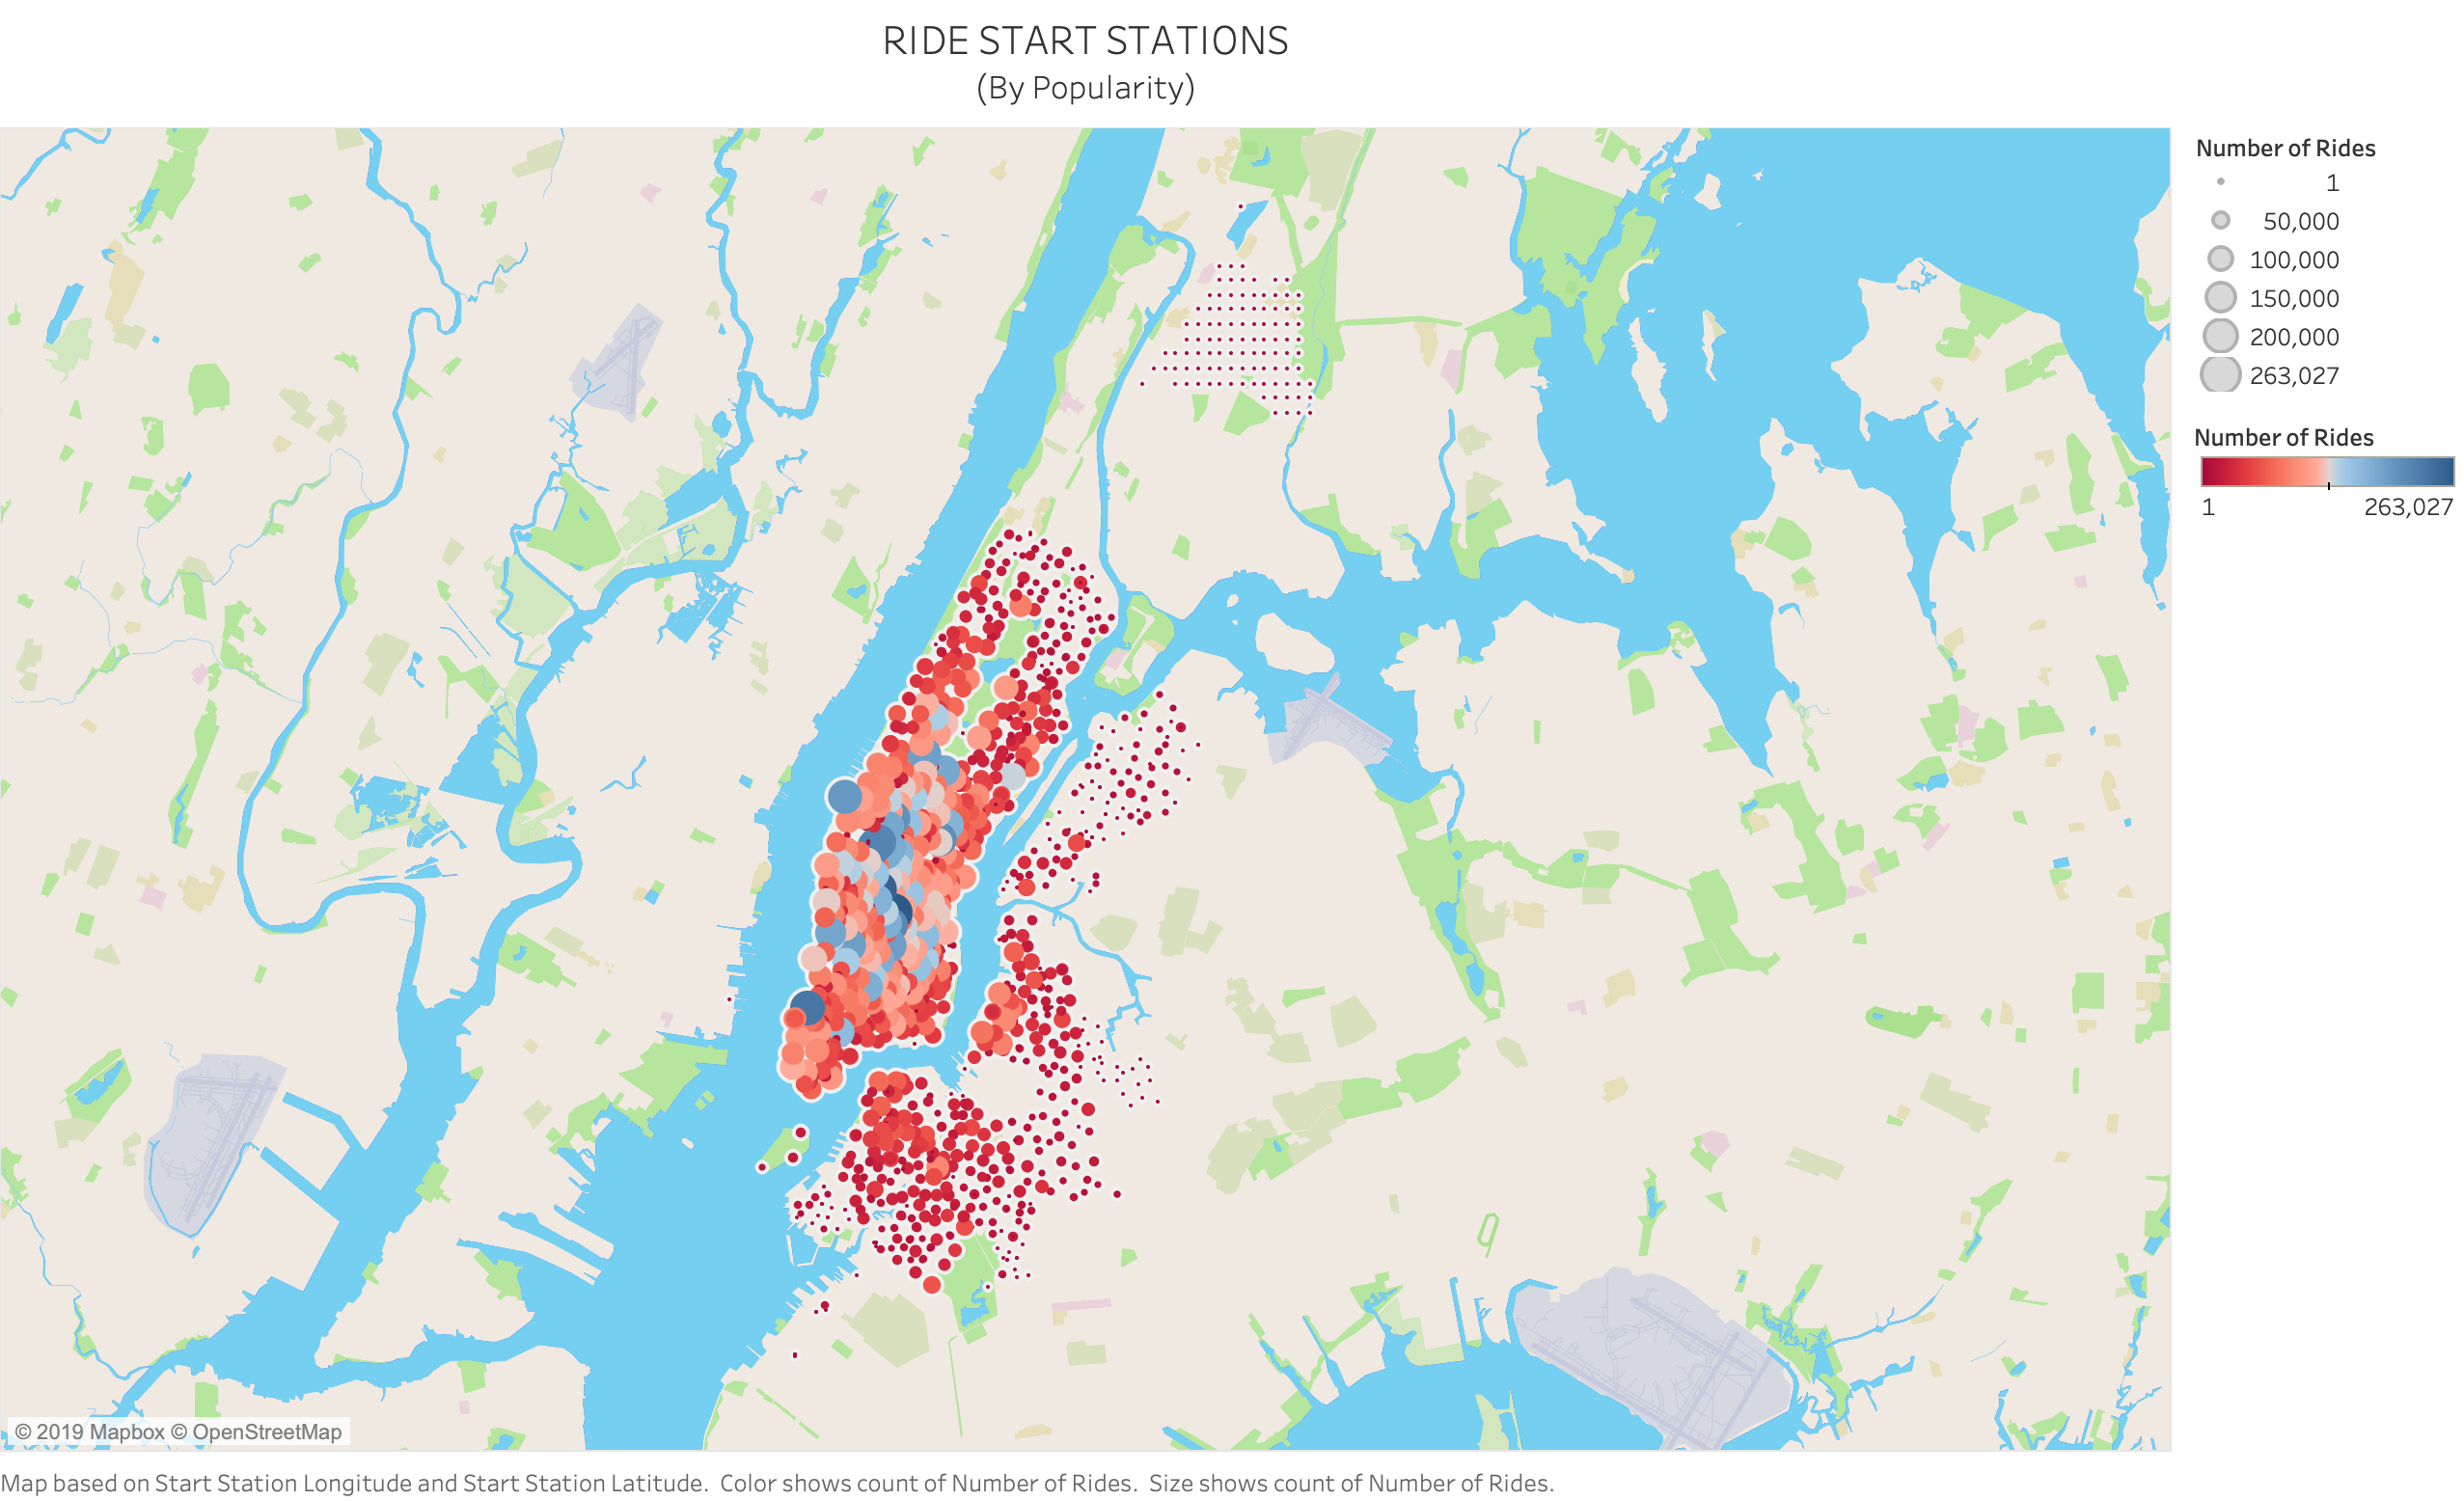

Layout of this report page (visuals, bound fields, positions):
{"tool":"tableau","page":{"name":"Dashboard 4","canvas":[1000,800],"ordinal":3},"visuals":[{"type":"worksheet","title":"Ride Start Stations","mark":"Automatic","rows":["start station latitude"],"cols":["start station longitude"],"box":[8,8,984,784]},{"type":"legend","title":"Ride Start Stations","param":"[federated.1j9ft590w6gukx16jatwz1rsvlbo].[cnt:Number of Records:qk]","box":[18,86,209,76]},{"type":"legend","title":"Ride Start Stations","param":"[federated.1j9ft590w6gukx16jatwz1rsvlbo].[cnt:Number of Records:qk]","box":[36,140,140,138]}]}

Visuals, with their boxes on the page's 1000x800 design canvas (x1, y1, x2, y2). These are canvas units, not pixel positions in the 2464x1501 screenshot, which may show the page scaled, cropped or inside an application window:
"Ride Start Stations" worksheet: (x1=8, y1=8, x2=992, y2=792)
"Ride Start Stations" legend: (x1=18, y1=86, x2=227, y2=162)
"Ride Start Stations" legend: (x1=36, y1=140, x2=176, y2=278)
